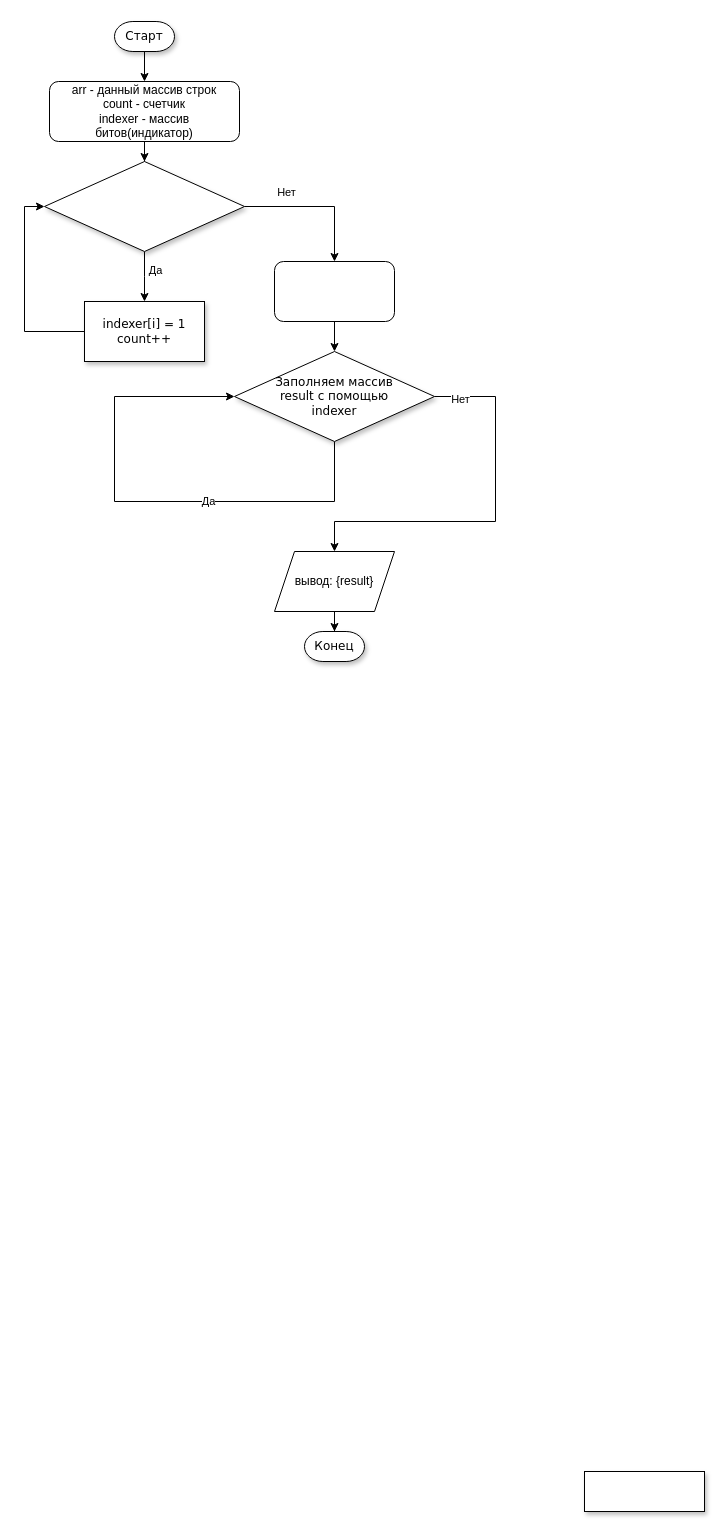
Image size: 728x1536. Some labels were removed from this diagram. Here are the shapes that lost their labels. From the top down, the centre of each, then its label:
At pixel 145 207: "элемент массива <= 3 символа?".
At pixel 334 291: "result - массив, величиной {count} элементов".
At pixel 645 1492: "Create work order backorder".
